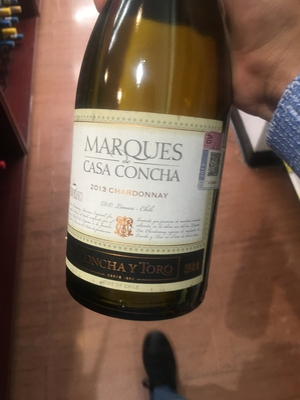marques de casa concha chardonnay: (65, 14, 238, 327)
